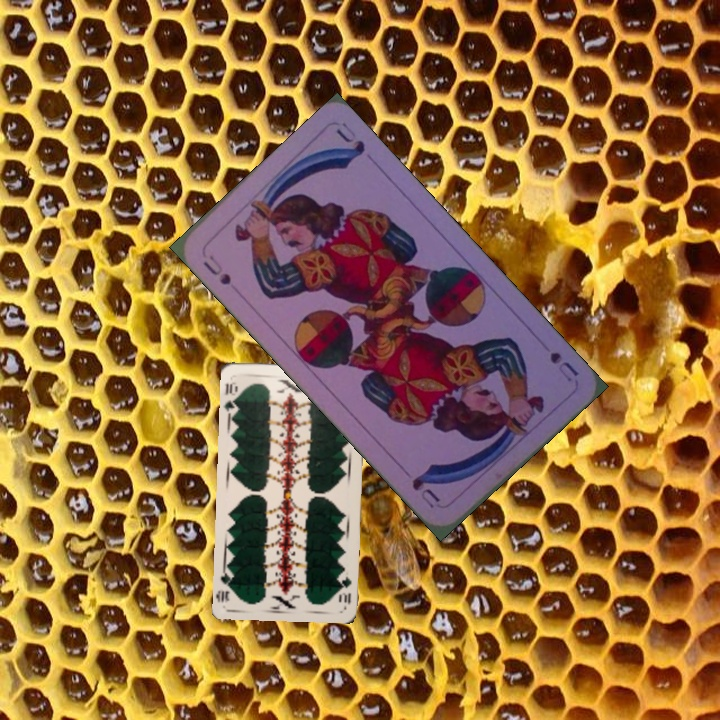G10: (221, 378, 241, 416), (335, 573, 354, 607)
SU: (545, 347, 581, 384), (199, 251, 234, 288)
